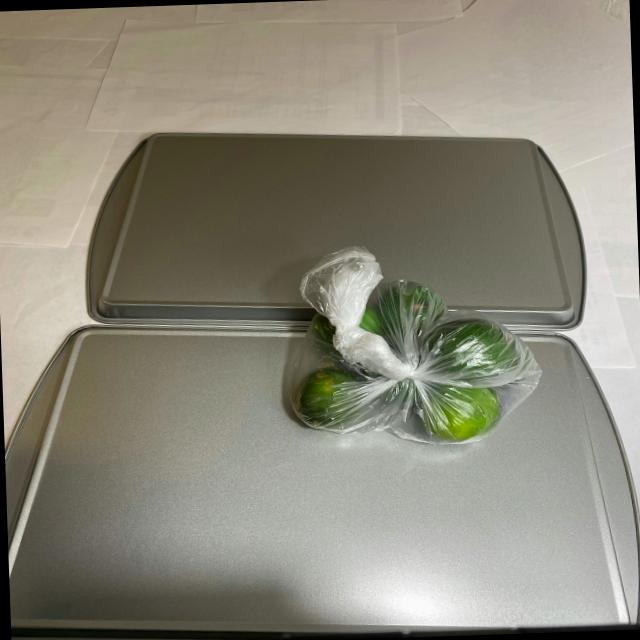lemon: (288, 282, 530, 451)
